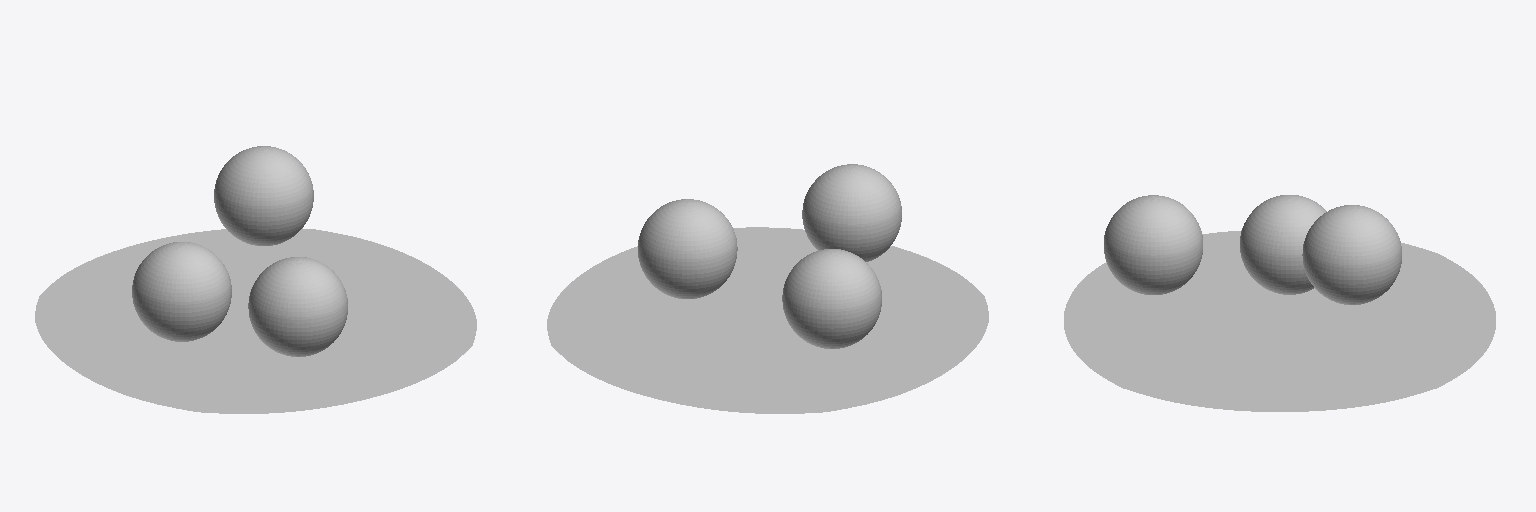
Rendered from Star.obj.
3 renders of one model, left to right at view 1: azimuth 30°, elevation 25°; view 2: azimuth 150°, elevation 25°; view 3: azimuth 270°, elevation 25°, orthographic.
Visible parts, largest first — view 1: Plane, P3_Sphere.002, P1_Sphere.001, P2_Sphere.000; view 2: Plane, P1_Sphere.001, P3_Sphere.002, P2_Sphere.000; view 3: Plane, P3_Sphere.002, P2_Sphere.000, P1_Sphere.001.
Part boxes in pixels (left/top/right/bottom): Plane: left=35, top=228, right=476, bottom=413; P3_Sphere.002: left=214, top=146, right=313, bottom=245; P1_Sphere.001: left=132, top=242, right=231, bottom=341; P2_Sphere.000: left=248, top=257, right=347, bottom=356; Plane: left=547, top=227, right=988, bottom=413; P1_Sphere.001: left=782, top=249, right=881, bottom=348; P3_Sphere.002: left=638, top=199, right=737, bottom=298; P2_Sphere.000: left=802, top=164, right=901, bottom=261; Plane: left=1064, top=230, right=1495, bottom=411; P3_Sphere.002: left=1302, top=205, right=1401, bottom=304; P2_Sphere.000: left=1104, top=195, right=1202, bottom=294; P1_Sphere.001: left=1240, top=195, right=1326, bottom=294.
Size of the model in its own units: 8.56 by 2.98 by 8.56.